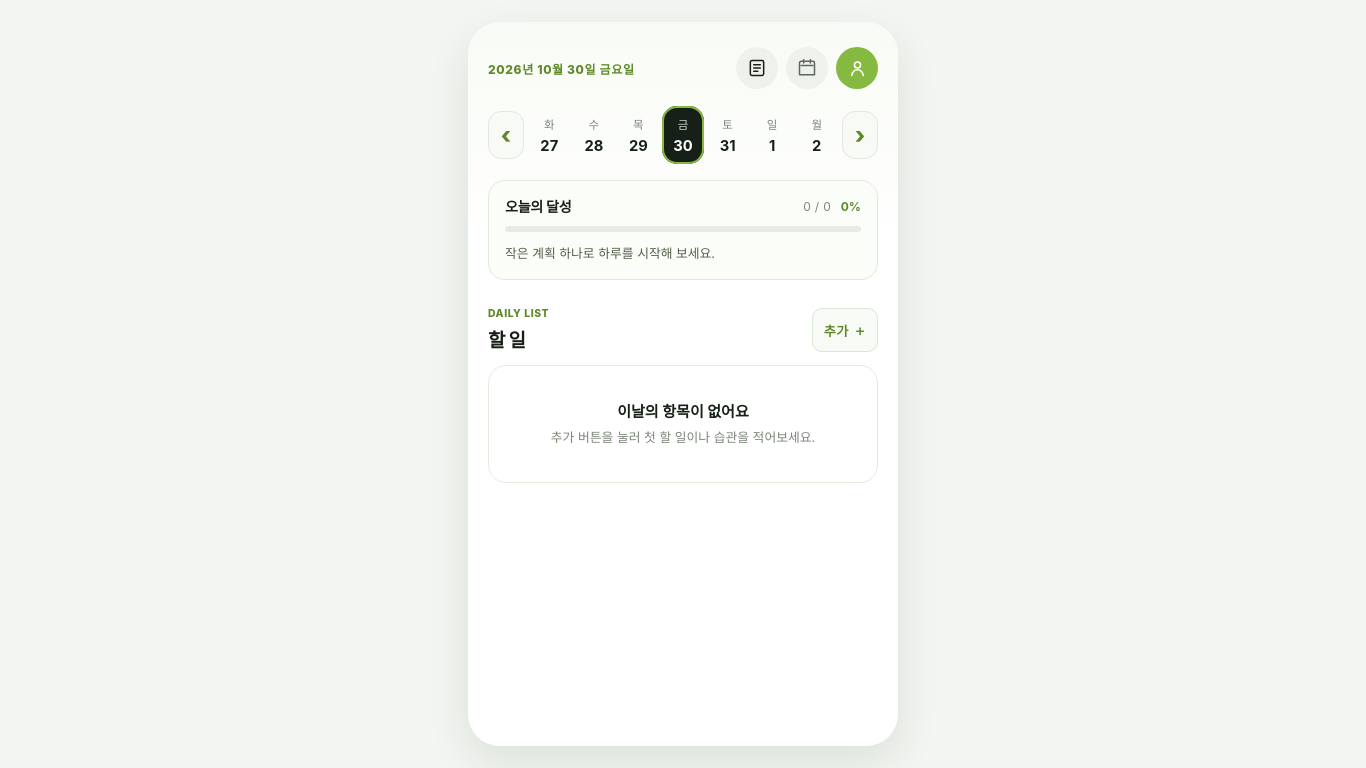
Test: App › opens backup controls from the prototype settings sheet
The image size is (1366, 768).
expect the text "이날의 항목이 없어요" is shown: met, box [617,402,749,421]
Click the button named "설정 열기".
click(857, 68)  # box [836,47,878,89]
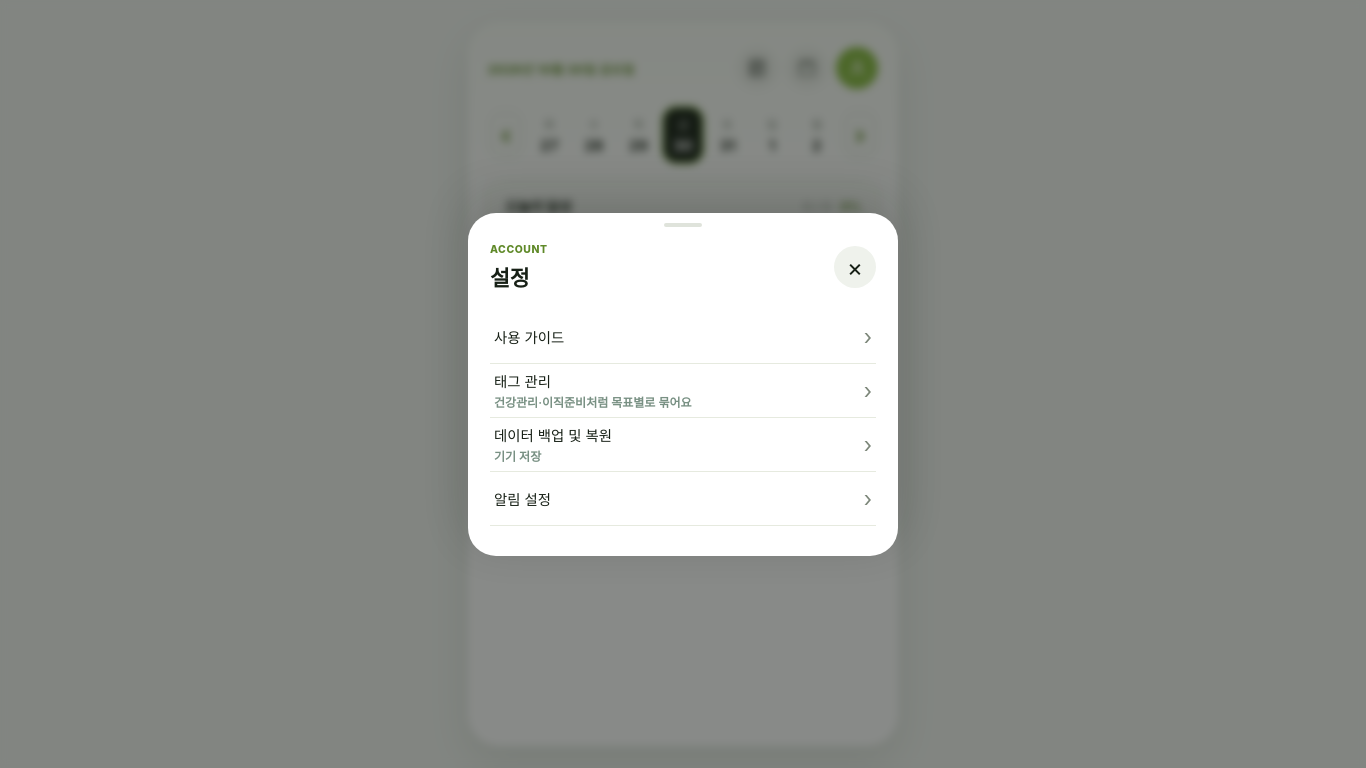
expect the text "ACCOUNT" is shown: met, box [490,242,548,256]
expect the heading "설정" is shown: met, box [490,264,530,290]
expect the button "알림 설정 ›" is shown: met, box [490,472,876,526]
Click the button "데이터 백업 및 복원 기기 저장 ›".
click(553, 436)  # box [490,418,876,472]
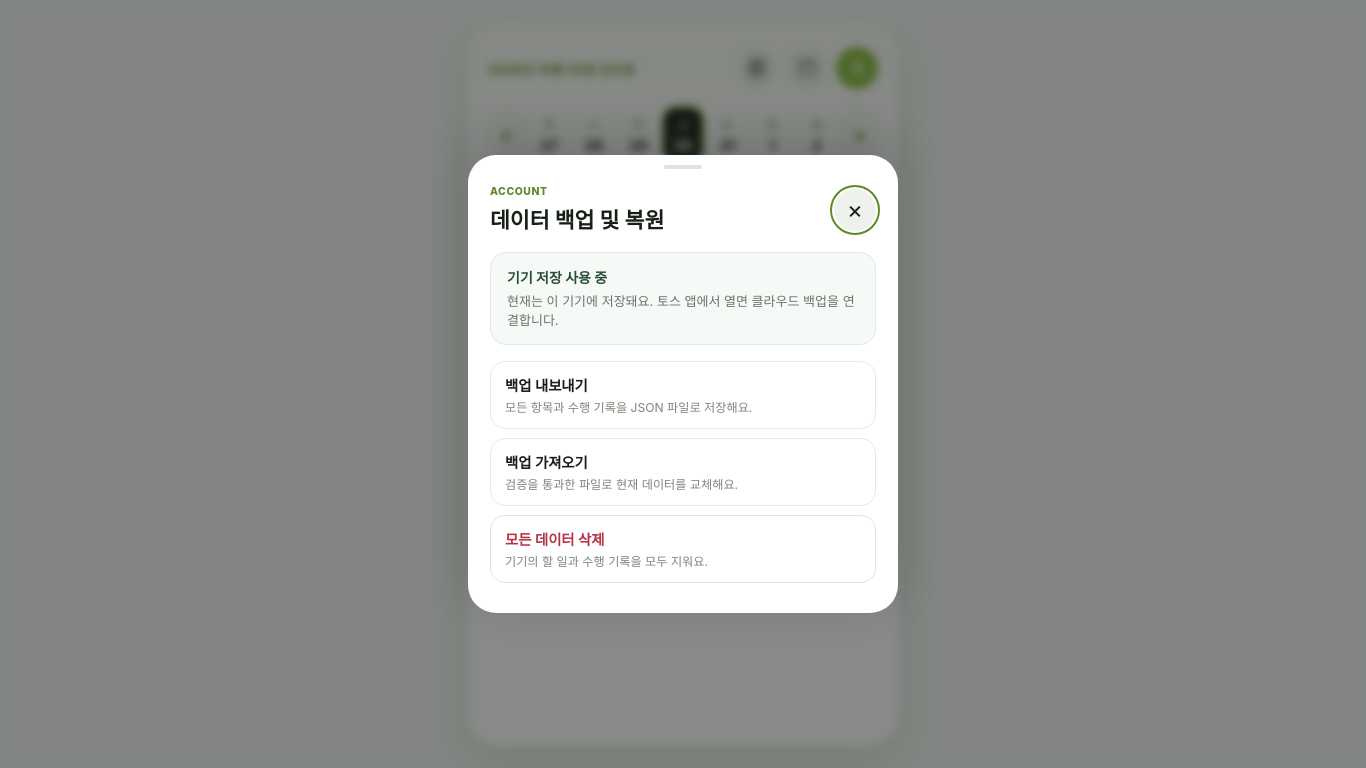
expect the text "백업 내보내기" is shown: met, box [505,377,588,394]
expect the file field named "백업 파일 선택" is shown: met, box [490,438,876,506]
